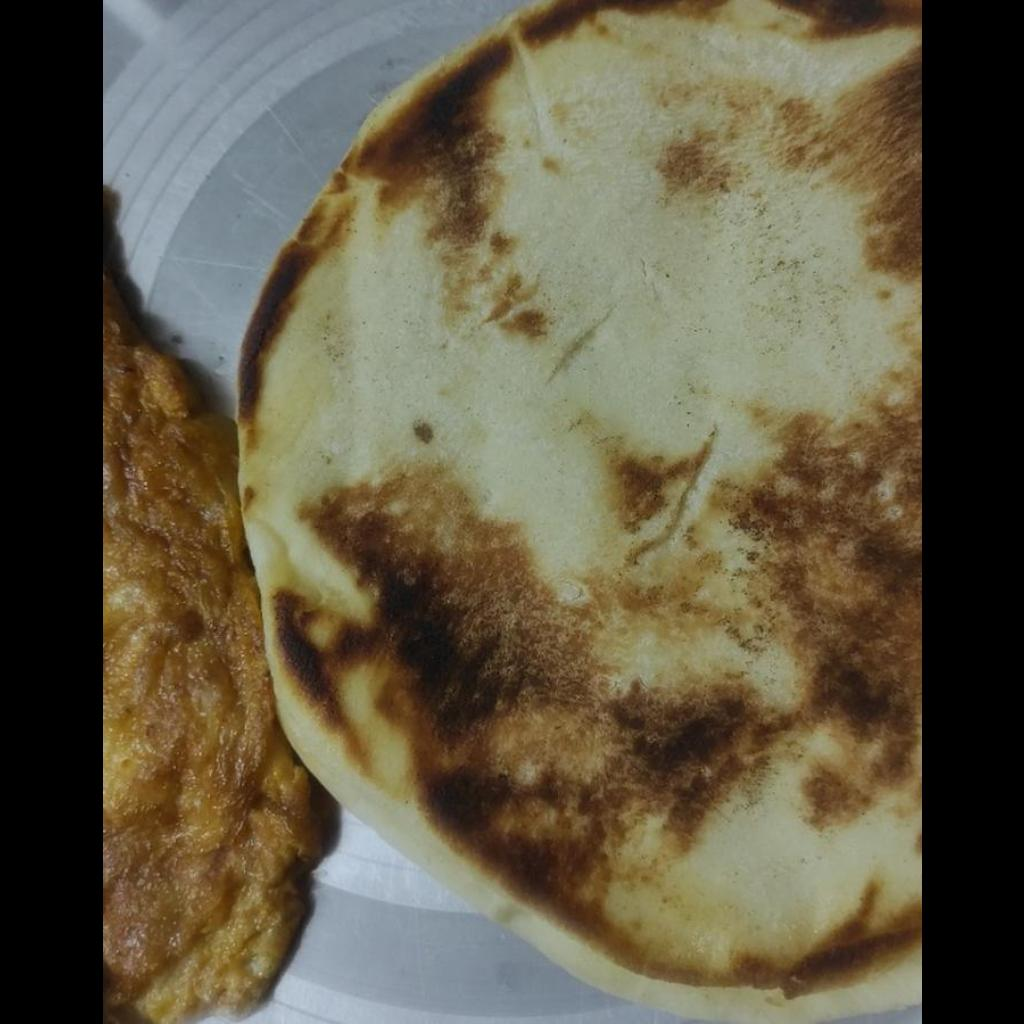egg-poached: (102, 180, 321, 1022)
ruti: (234, 4, 920, 1022)
